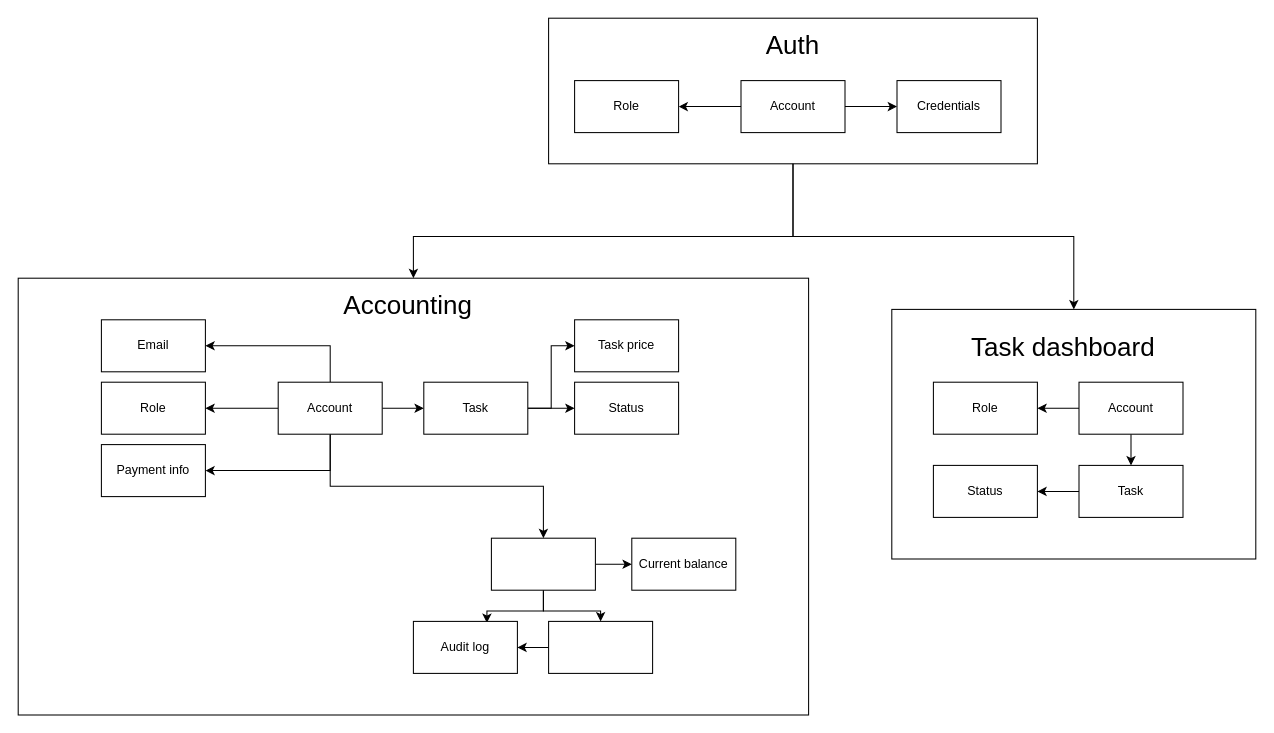
This 1274x733 diagram has some shape labels left out. The shapes that lost their labels are listed below. From the top down, each one's box as (x1, y1, x2, y2) in pixels, then its label:
(490, 537, 595, 590): Bank account
(548, 620, 653, 673): Transaction debit/credit
